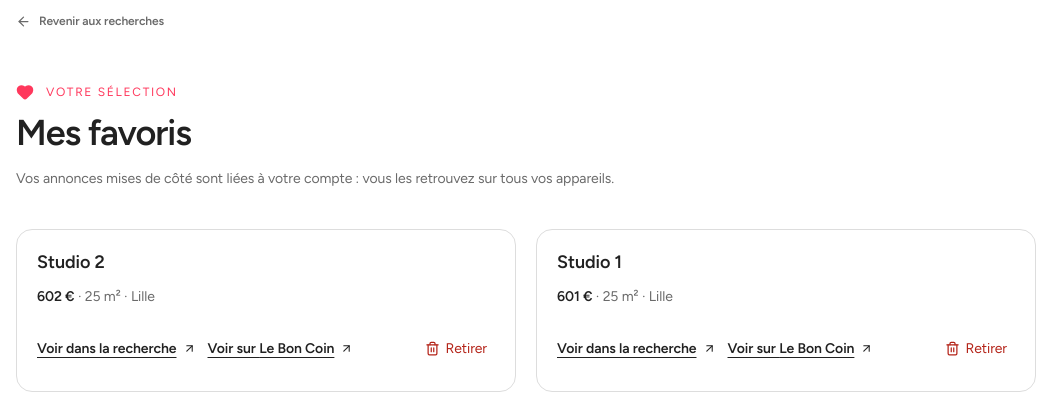
Scenario: Mes favoris › « Retirer » supprime le favori en base (DELETE) et le fait disparaître
Step 1. Click the button with aria-label "Retirer des favoris : Studio 1" → (976, 349), box [936,327,1015,371]
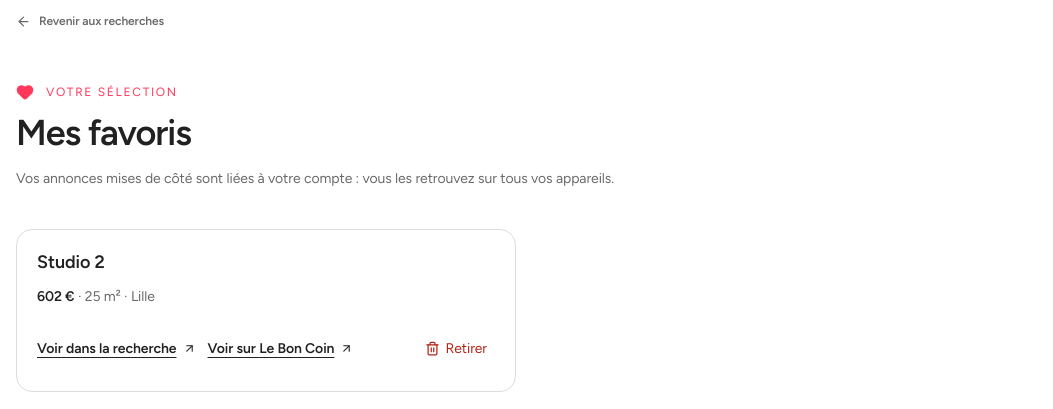
Check: the heading "Studio 2" is shown, box [37,251,105,273]
Check: the heading "Studio 1" is gone
